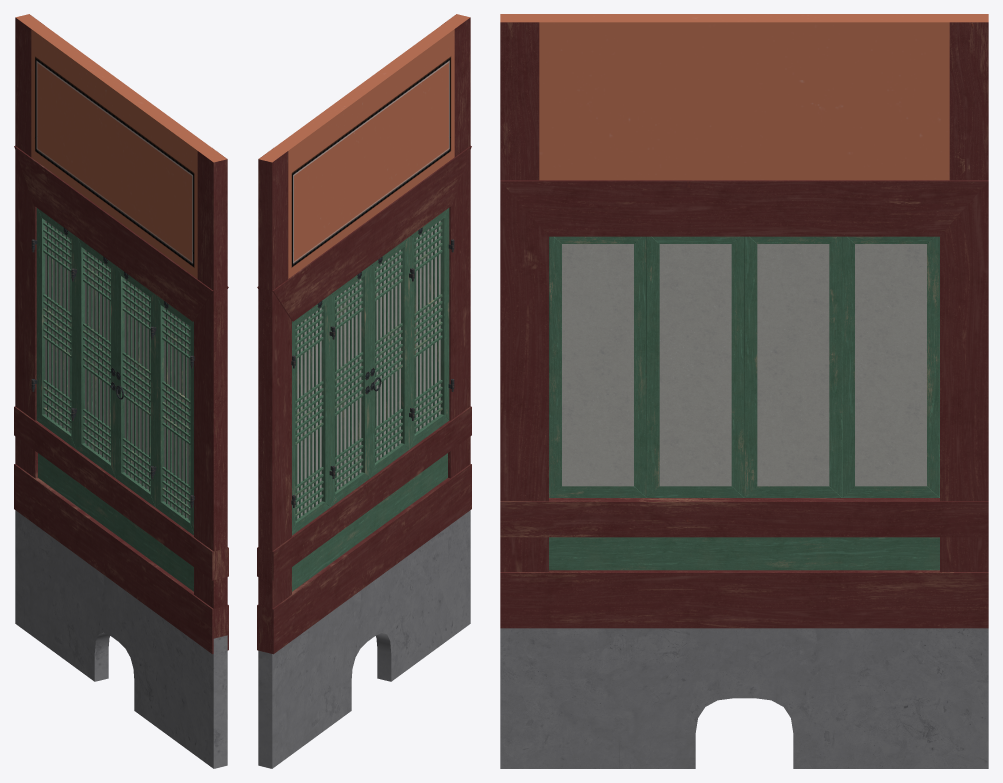
The model's file is SM_CGJ_Wall01h.fbx.
3 views of the same model, side by side, from view 1: azimuth 30°, elevation 25°; view 2: azimuth 150°, elevation 25°; view 3: azimuth 270°, elevation 25° (orthographic). The views are drawn at different scales.
Parts seen in each view (by area): view 1: SM_CGJ_Wall01h; view 2: SM_CGJ_Wall01h; view 3: SM_CGJ_Wall01h.
Boxes of the visible parts, box(x1,y1,x2,y2) form: SM_CGJ_Wall01h: box(14, 14, 228, 768); SM_CGJ_Wall01h: box(257, 14, 471, 768); SM_CGJ_Wall01h: box(500, 14, 988, 768).
Size of the model in its own units: 13.46 by 250 by 422.
Materials: 6 (6 with a texture image).
